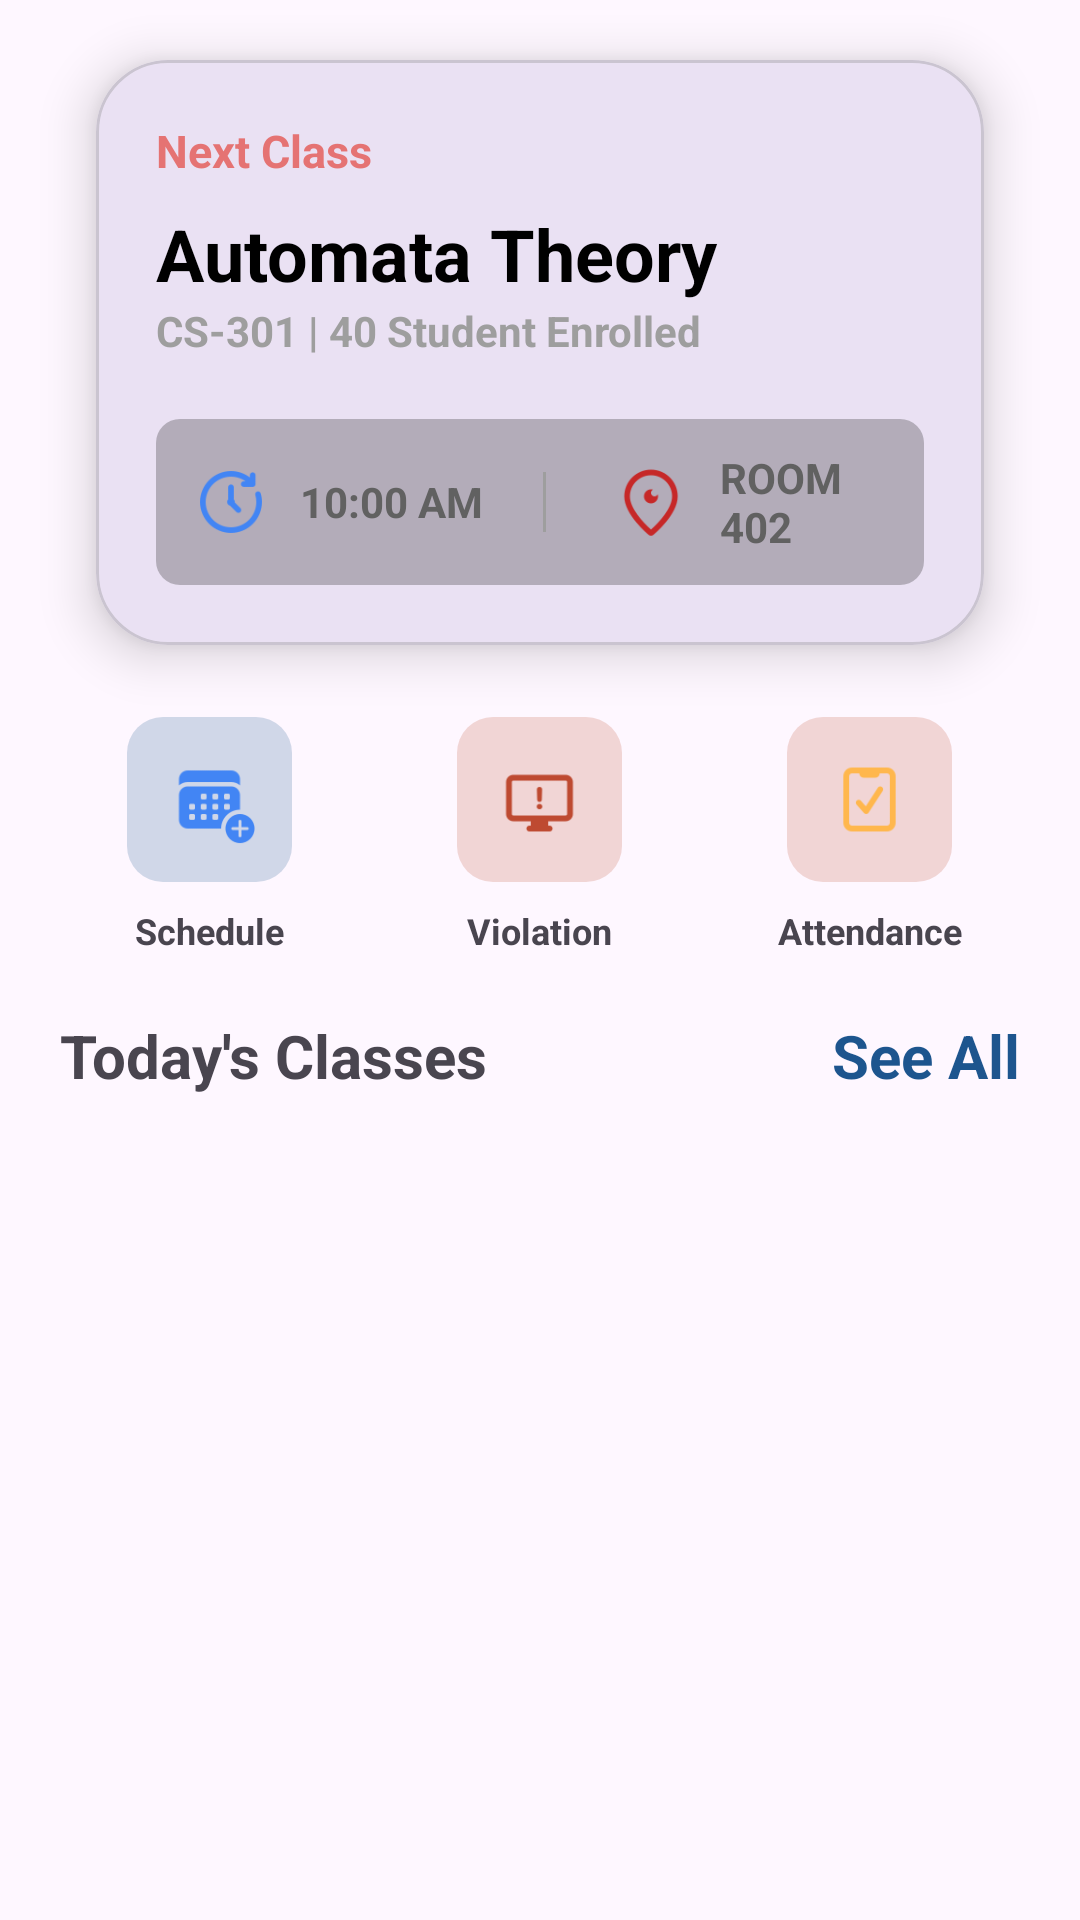

Where icons sit on this 1080×1920 app screen, as (x1, y1, x2, y2):
calendar plus: (127, 717, 292, 882)
inspection: (787, 717, 952, 882)
system report: (457, 717, 622, 882)
visit: (624, 469, 678, 536)
